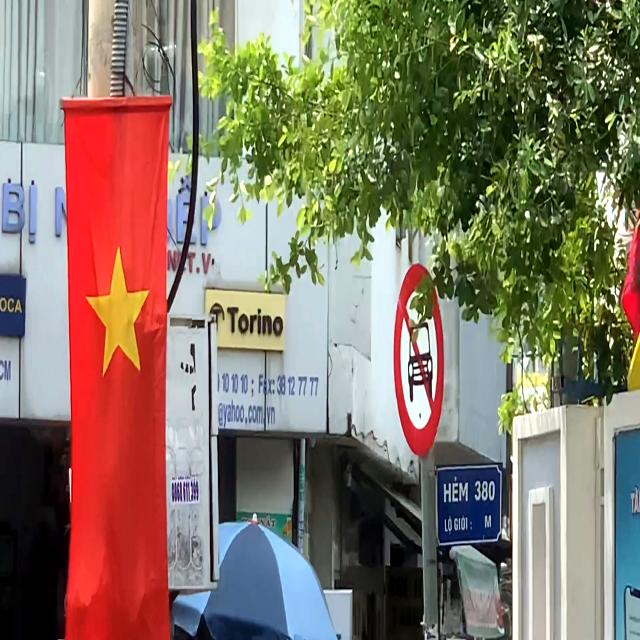P.103a: (393, 263, 446, 458)
